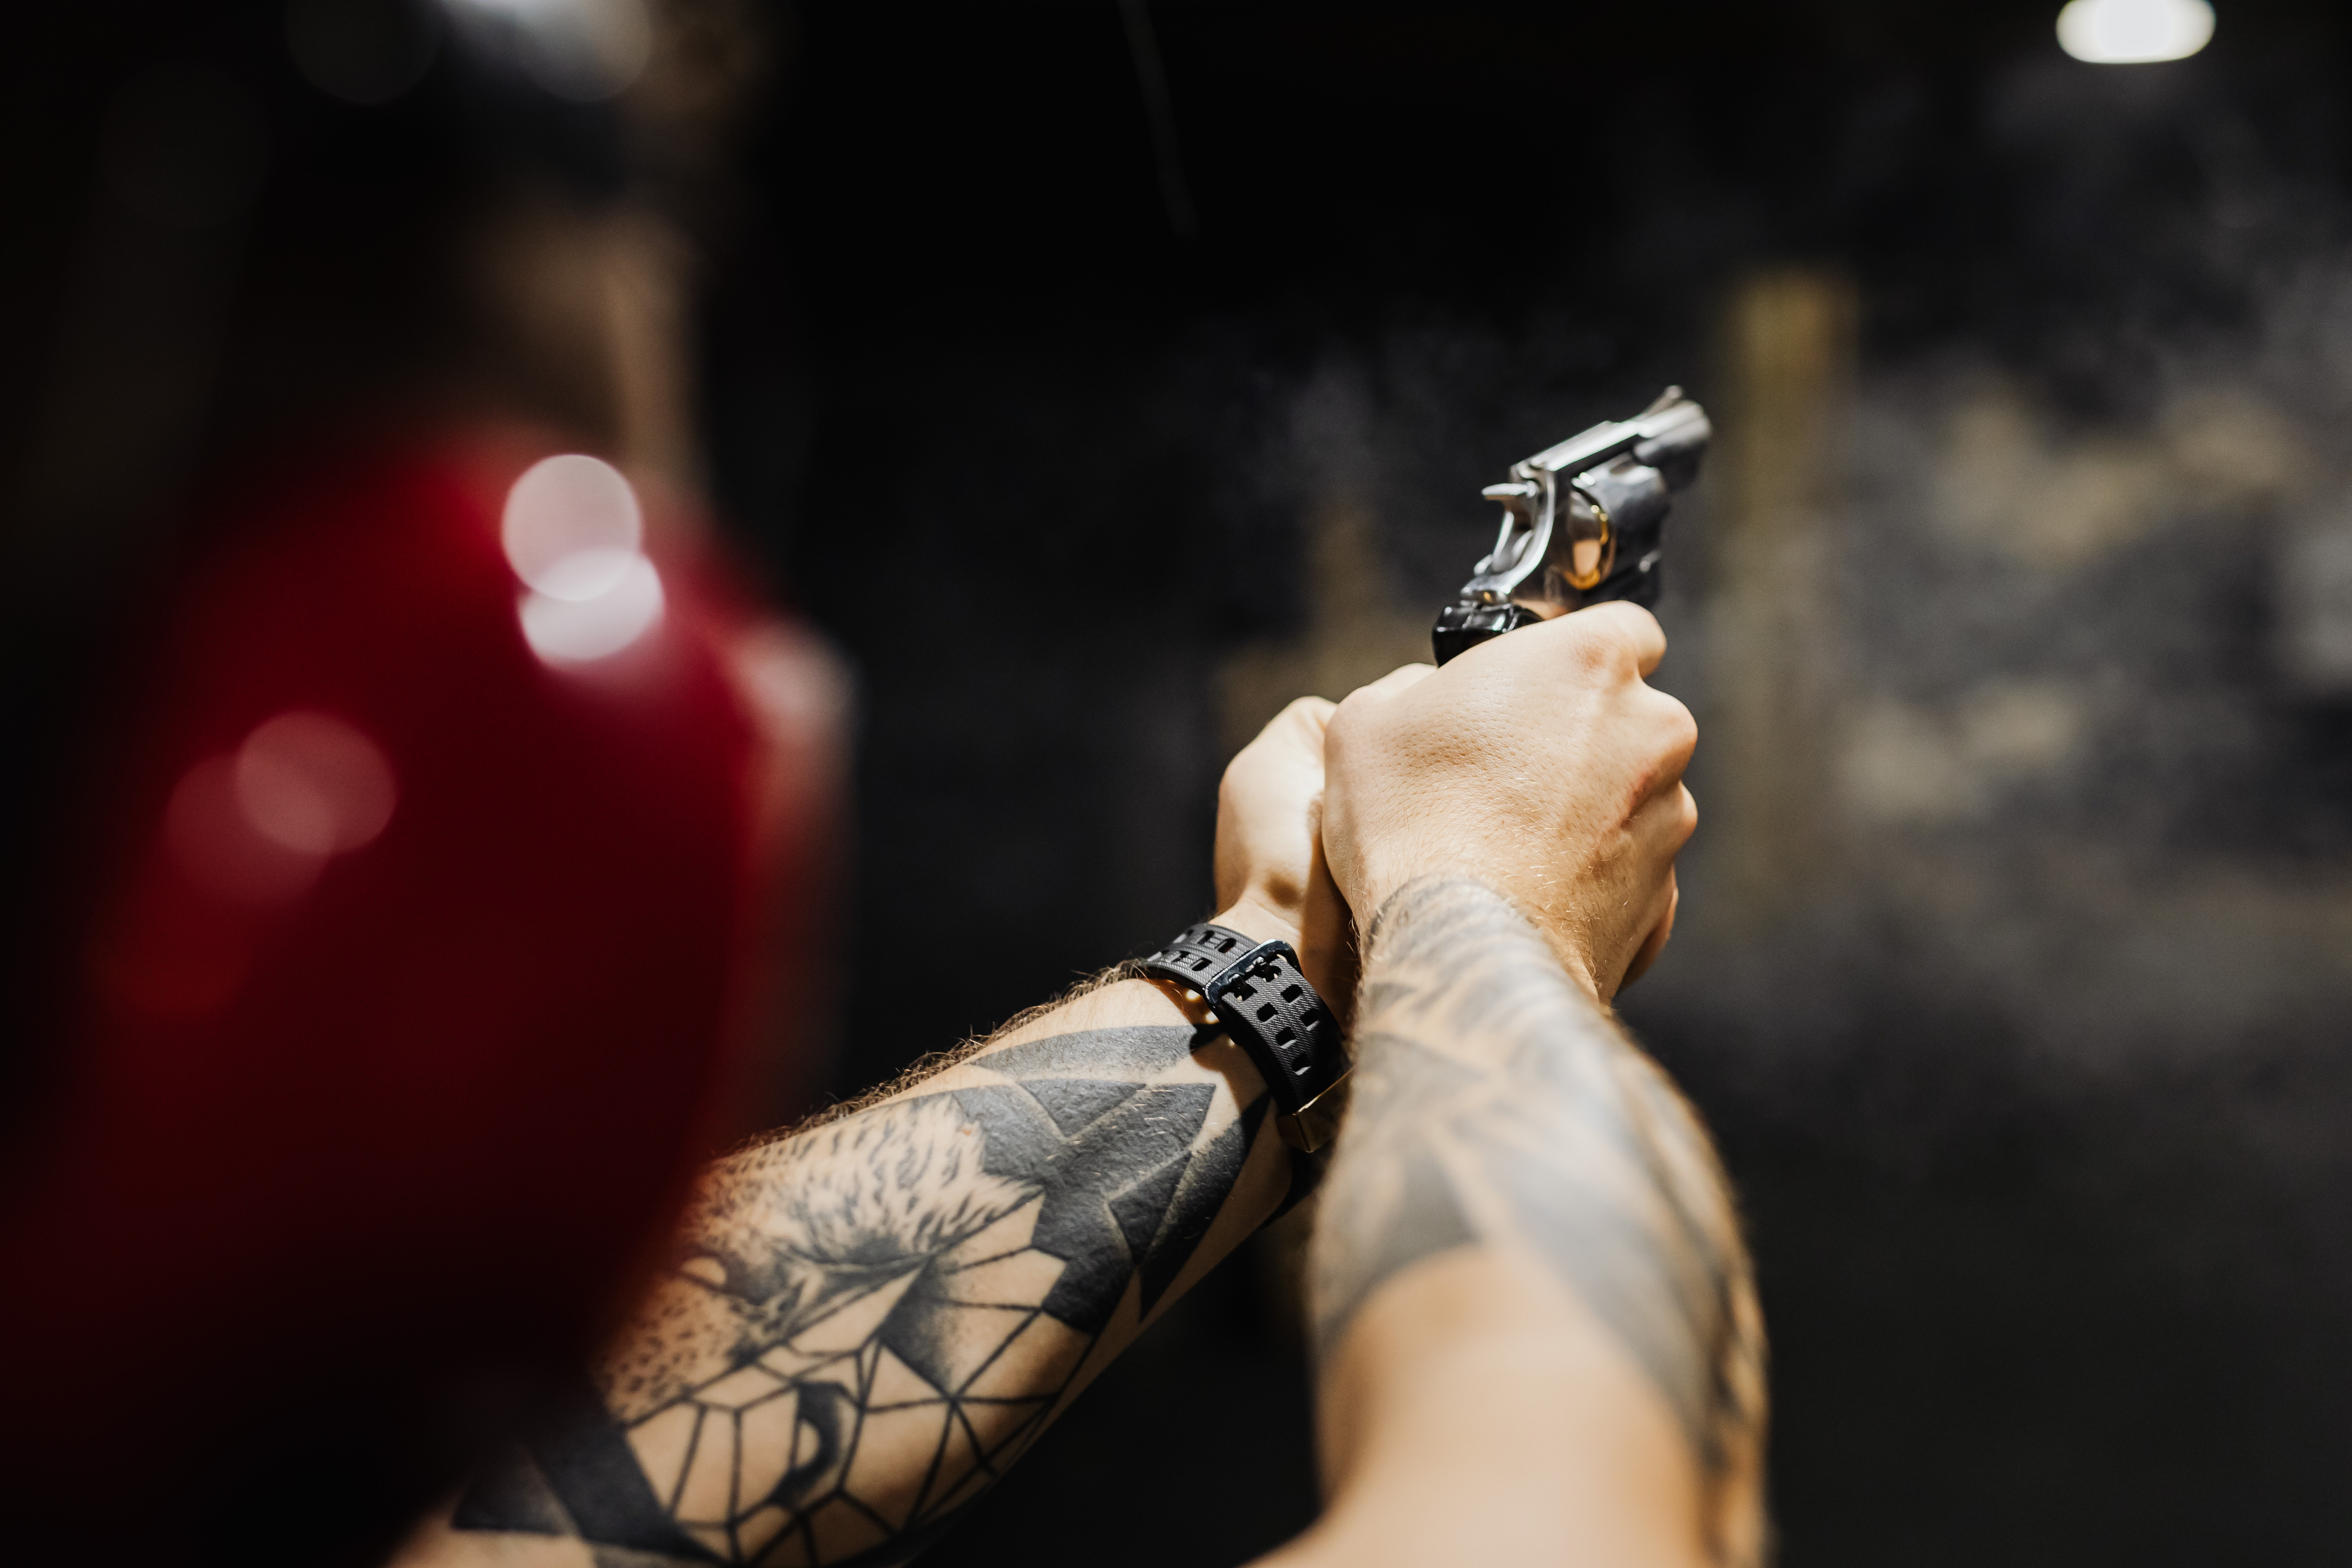gun: (1384, 369, 1725, 742)
